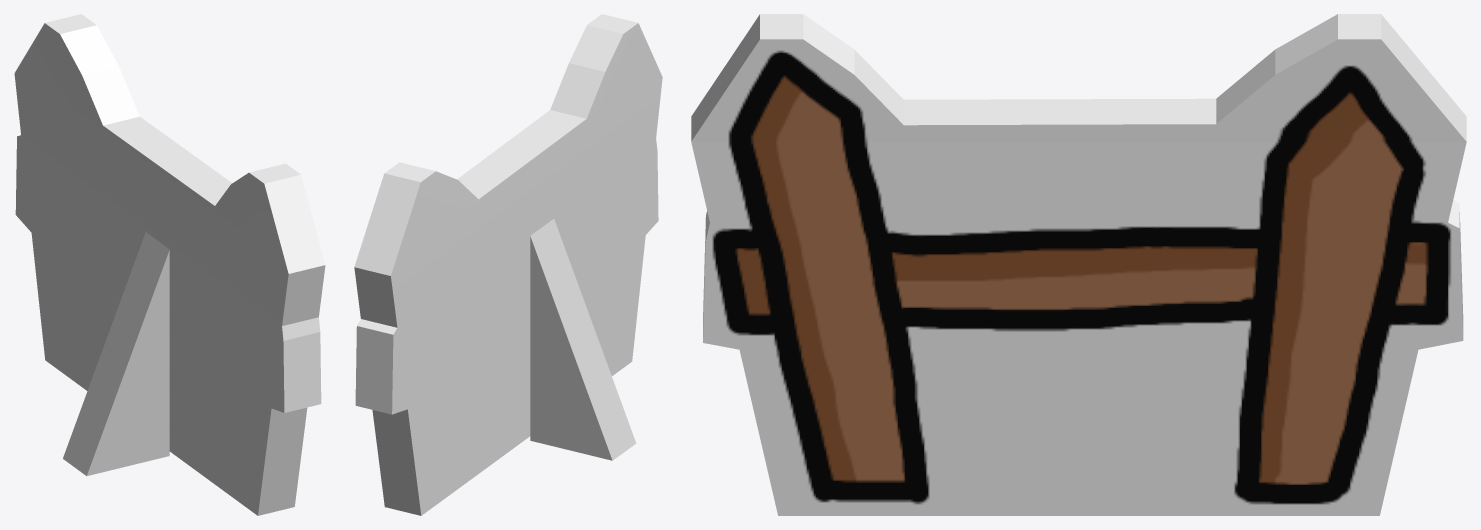
The model's file is fence.fbx.
3 renders of one model, left to right at view 1: azimuth 30°, elevation 25°; view 2: azimuth 150°, elevation 25°; view 3: azimuth 270°, elevation 25°, orthographic. The views are drawn at different scales.
Parts seen in each view (by area): view 1: pCube5, pCube52; view 2: pCube5, pCube52; view 3: pCube5.
Part boxes in pixels (x1=…): pCube5: x1=14, y1=14, x2=325, y2=515; pCube52: x1=63, y1=232, x2=169, y2=475; pCube5: x1=354, y1=14, x2=662, y2=515; pCube52: x1=530, y1=219, x2=636, y2=460; pCube5: x1=691, y1=14, x2=1466, y2=515.
Bounding box in the file's own units: 1.52 × 3.88 × 5.72.
